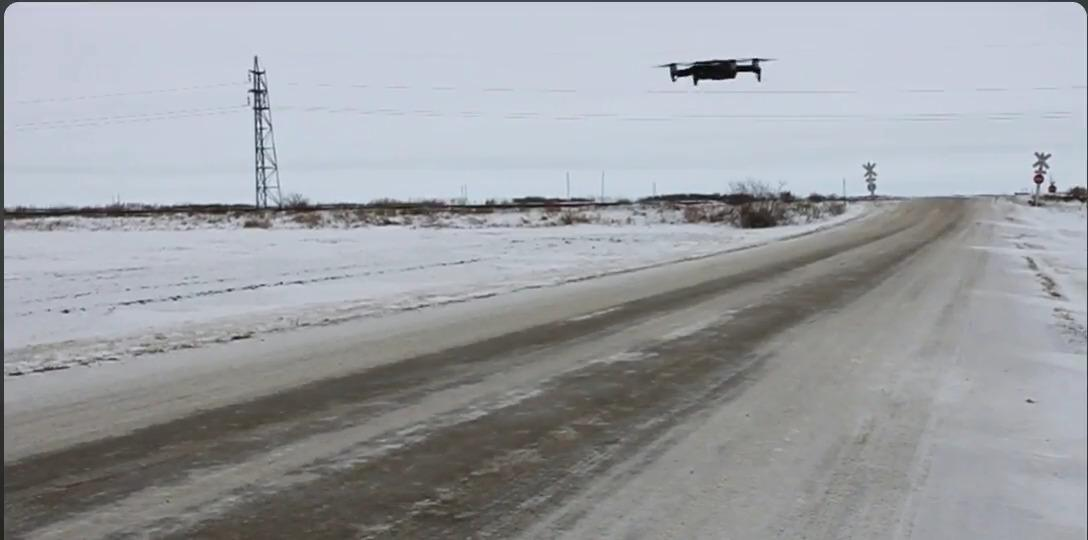dr: (635, 36, 798, 104)
